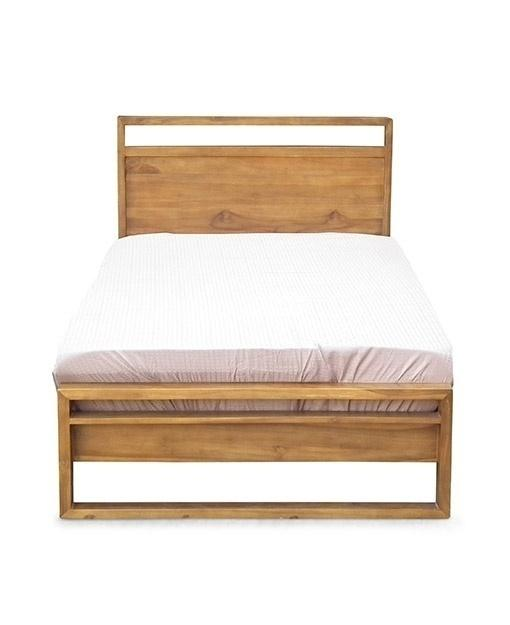bed: (42, 67, 484, 551)
